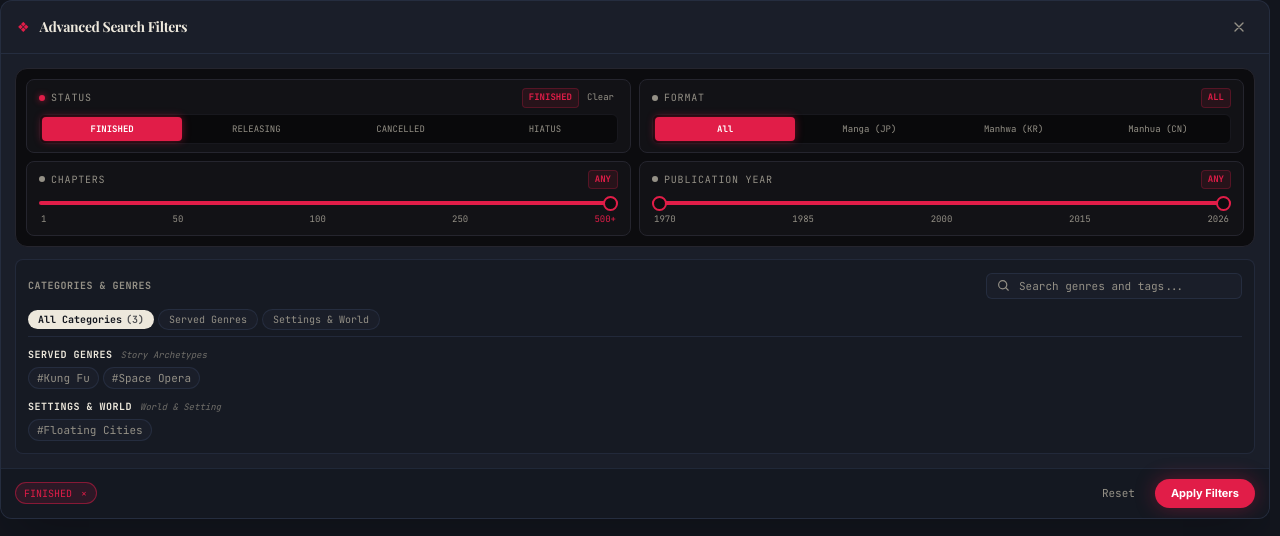
Scenario: instrument panel cards › states a single status by name and counts multiple as N SELECTED
The image size is (1280, 536).
Step 1. Click the button "RELEASING" → (256, 128), box top-left (186, 116), bottom-right (327, 140)
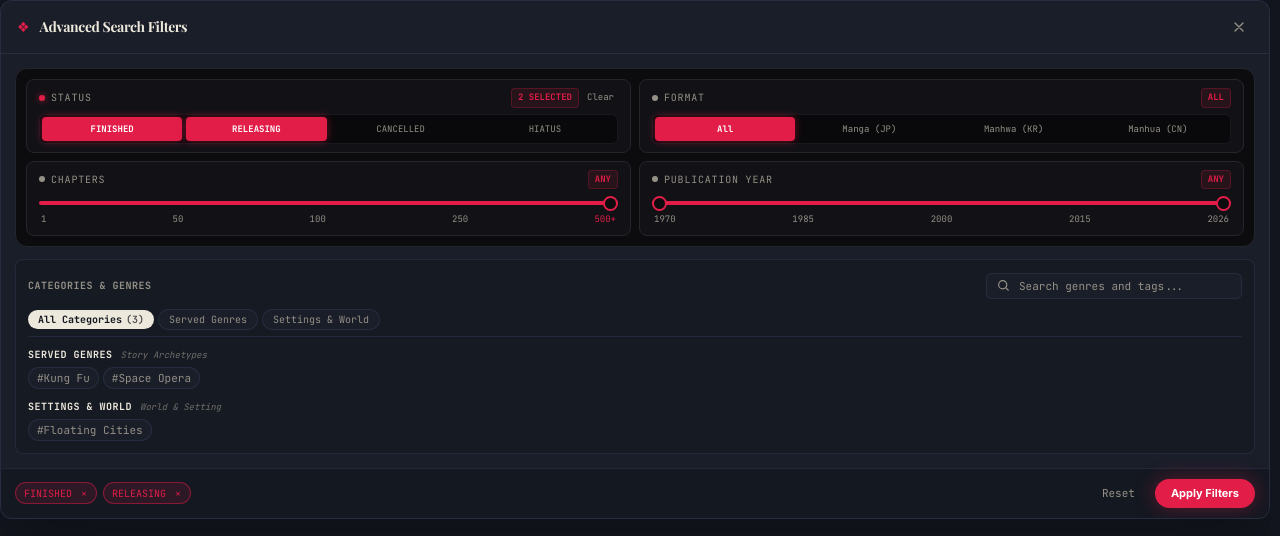
Expected: the text "2 SELECTED" is shown, top-left (511, 88), bottom-right (579, 108)
